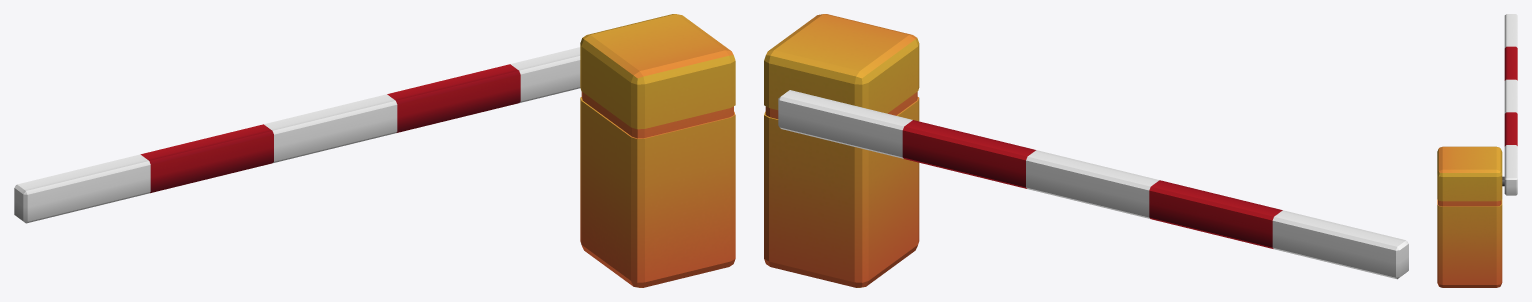
The model's file is Props_ParkingGate.fbx.
3 views of the same model, side by side, from view 1: azimuth 30°, elevation 25°; view 2: azimuth 150°, elevation 25°; view 3: azimuth 270°, elevation 25° (orthographic). The views are drawn at different scales.
Parts seen in each view (by area): view 1: Props_ParkingGate; view 2: Props_ParkingGate; view 3: Props_ParkingGate.
Part boxes in pixels (x1,y1,x2,y2): Props_ParkingGate: [14, 14, 735, 287]; Props_ParkingGate: [764, 14, 1408, 287]; Props_ParkingGate: [1437, 14, 1517, 287].
Size of the model in its own units: 315 by 100 by 61.88.
